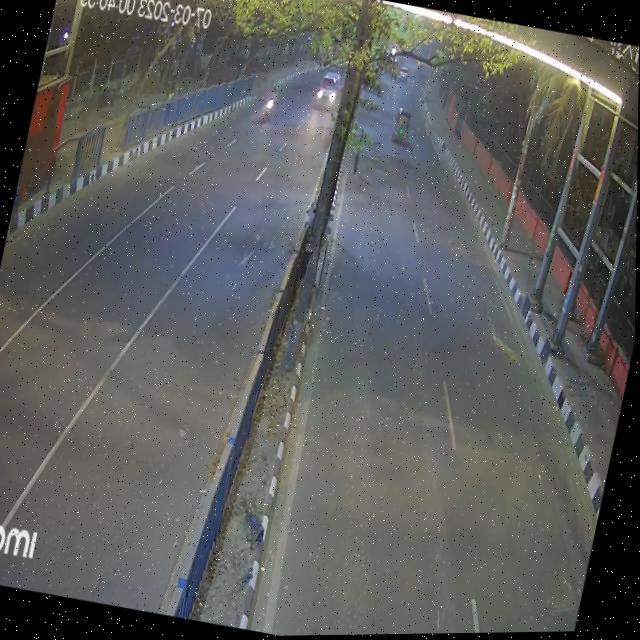cng: (389, 110, 414, 147)
